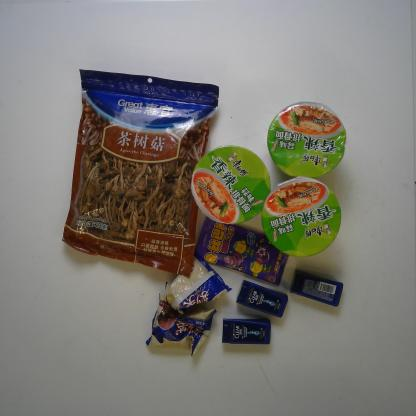Candy: (194, 216, 289, 286)
Dessert: (145, 293, 217, 357), (165, 254, 233, 314)
Dried Food: (60, 68, 220, 279)
Instant Noodles: (261, 176, 342, 258), (191, 145, 271, 225), (267, 102, 347, 178)
Personal Hygiene: (235, 279, 288, 318), (289, 269, 343, 307), (222, 317, 271, 344)
